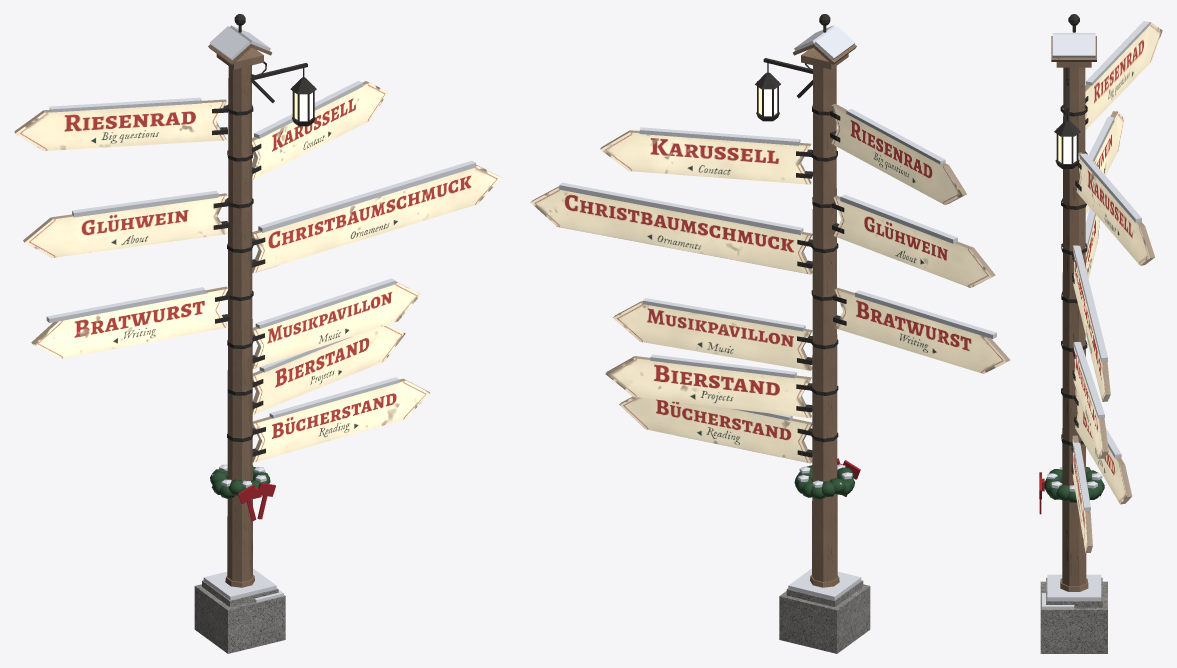
The model's file is signpost.glb.
3 views of the same model, side by side, from view 1: azimuth 30°, elevation 25°; view 2: azimuth 150°, elevation 25°; view 3: azimuth 270°, elevation 25° (orthographic).
Visible parts, largest first — view 1: sign_post, snow_sign, act_sign_schmuck, act_sign_riesenrad, act_sign_gluehwein, act_sign_bratwurst, act_sign_buecherstand, act_sign_bandstand, act_sign_bierstand, sign_plinth, act_sign_karussell, sign_ironwork (+2 smaller); view 2: sign_post, snow_sign, act_sign_schmuck, act_sign_karussell, act_sign_bierstand, act_sign_bandstand, act_sign_buecherstand, act_sign_bratwurst, act_sign_gluehwein, sign_plinth, act_sign_riesenrad, sign_ironwork (+1 smaller); view 3: sign_post, snow_sign, sign_plinth, act_sign_riesenrad, act_sign_karussell, act_sign_bierstand, act_sign_schmuck, act_sign_bandstand, sign_ironwork, sign_wreath, act_sign_gluehwein, act_sign_buecherstand (+2 smaller).
Boxes of the visible parts, bbox=[...] form: sign_post: bbox=[208, 44, 271, 587]; snow_sign: bbox=[46, 25, 475, 602]; act_sign_schmuck: bbox=[252, 164, 501, 273]; act_sign_riesenrad: bbox=[14, 99, 226, 151]; act_sign_gluehwein: bbox=[23, 193, 227, 257]; act_sign_bratwurst: bbox=[31, 286, 228, 358]; act_sign_buecherstand: bbox=[252, 378, 429, 462]; act_sign_bandstand: bbox=[252, 281, 420, 369]; act_sign_bierstand: bbox=[252, 324, 405, 414]; sign_plinth: bbox=[194, 580, 285, 653]; act_sign_karussell: bbox=[252, 81, 388, 179]; sign_ironwork: bbox=[234, 14, 316, 126]; sign_post: bbox=[793, 44, 856, 587]; snow_sign: bbox=[559, 25, 996, 600]; act_sign_schmuck: bbox=[530, 186, 812, 274]; act_sign_karussell: bbox=[600, 130, 811, 184]; act_sign_bierstand: bbox=[605, 356, 811, 418]; act_sign_bandstand: bbox=[613, 301, 812, 370]; act_sign_buecherstand: bbox=[619, 396, 812, 463]; act_sign_bratwurst: bbox=[834, 288, 1010, 373]; act_sign_gluehwein: bbox=[833, 195, 995, 287]; sign_plinth: bbox=[779, 580, 870, 653]; act_sign_riesenrad: bbox=[831, 104, 966, 204]; sign_ironwork: bbox=[755, 14, 830, 121]; sign_post: bbox=[1051, 36, 1096, 591]; snow_sign: bbox=[1042, 21, 1149, 609]; sign_plinth: bbox=[1040, 577, 1107, 653]; act_sign_riesenrad: bbox=[1085, 22, 1162, 130]; act_sign_karussell: bbox=[1076, 152, 1154, 265]; act_sign_bierstand: bbox=[1075, 389, 1132, 504]; act_sign_schmuck: bbox=[1073, 245, 1110, 401]; act_sign_bandstand: bbox=[1073, 341, 1108, 458]; sign_ironwork: bbox=[1054, 14, 1080, 168]; sign_wreath: bbox=[1044, 467, 1104, 502]; act_sign_gluehwein: bbox=[1085, 111, 1124, 214]; act_sign_buecherstand: bbox=[1072, 435, 1092, 552].
Bounding box in the file's own units: 4.09 × 5.13 × 0.9173.
9 materials, 3 textured.
